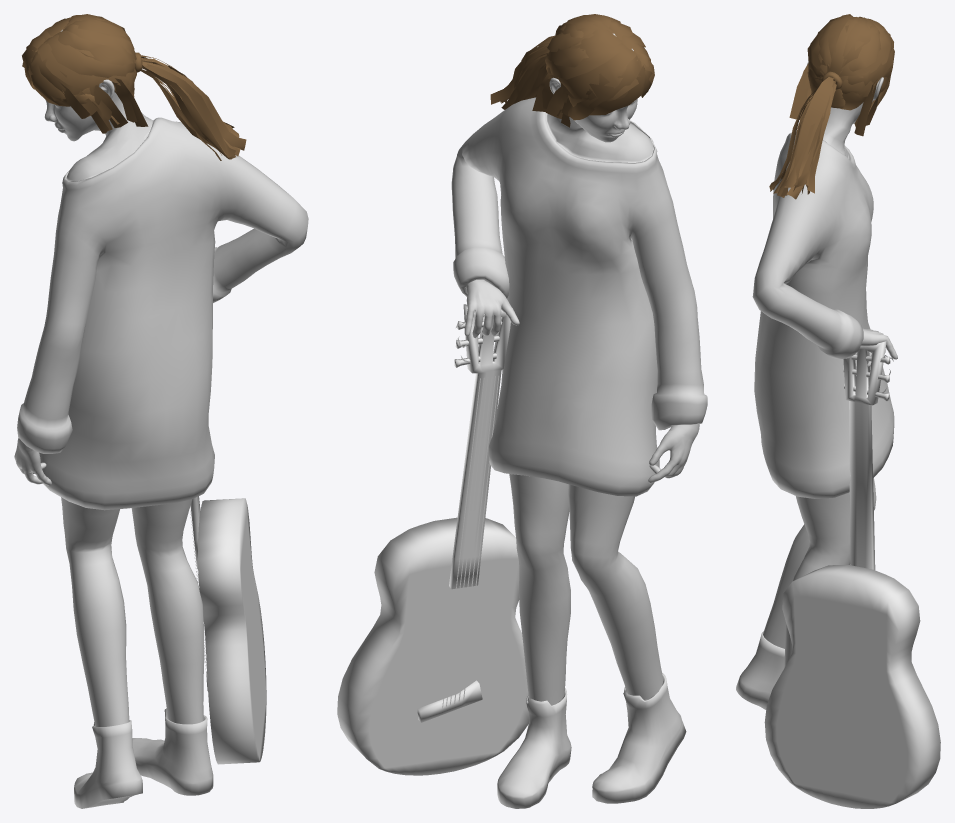
The model's file is NewSilja_testExport.fbx.
The picture shows the model from 3 angles, left to right: view 1: azimuth 30°, elevation 25°; view 2: azimuth 150°, elevation 25°; view 3: azimuth 270°, elevation 25°; orthographic projection. The views are drawn at different scales.
Parts seen in each view (by area): view 1: !Silja_LowPoly, Guitar, !Silja_Hair; view 2: !Silja_LowPoly, Guitar, !Silja_Hair; view 3: !Silja_LowPoly, Guitar, !Silja_Hair.
Part boxes in pixels (<box>): !Silja_LowPoly: <box>14,29,308,808</box>; Guitar: <box>190,496,266,764</box>; !Silja_Hair: <box>22,14,246,160</box>; !Silja_LowPoly: <box>451,33,707,808</box>; Guitar: <box>337,304,529,775</box>; !Silja_Hair: <box>490,14,654,127</box>; !Silja_LowPoly: <box>736,61,897,766</box>; Guitar: <box>764,341,940,808</box>; !Silja_Hair: <box>769,14,894,199</box>.
Size of the model in its own units: 2.09 by 5.1 by 1.33.
